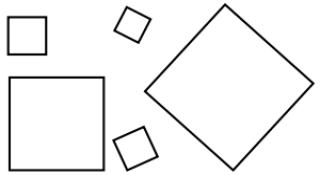Square: (142, 0, 317, 174), (8, 74, 106, 172), (112, 124, 159, 170), (7, 15, 49, 57), (113, 5, 152, 44)
